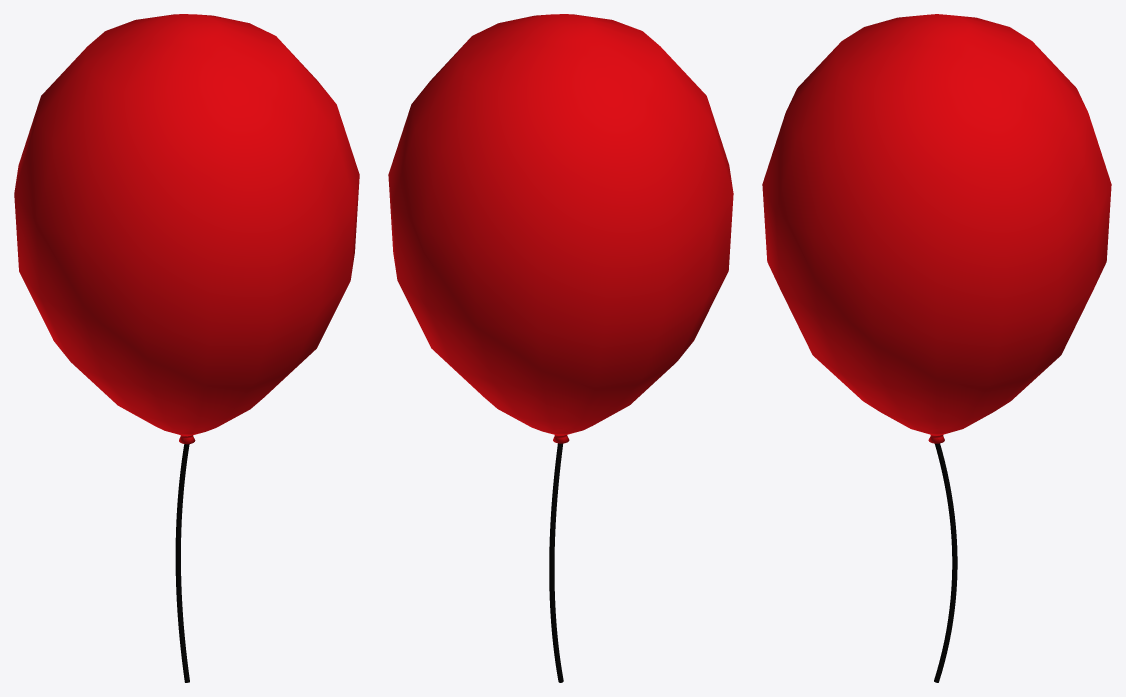
Rendered from Balloon.fbx.
3 renders of one model, left to right at view 1: azimuth 30°, elevation 25°; view 2: azimuth 150°, elevation 25°; view 3: azimuth 270°, elevation 25°, orthographic.
Parts seen in each view (by area): view 1: Ballon, NurbsPath; view 2: Ballon, NurbsPath; view 3: Ballon, NurbsPath.
Part boxes in pixels (<box>): Ballon: <box>14,14,359,444</box>; NurbsPath: <box>175,444,189,682</box>; Ballon: <box>388,14,733,443</box>; NurbsPath: <box>549,443,563,682</box>; Ballon: <box>762,14,1111,443</box>; NurbsPath: <box>934,443,957,682</box>.
Bounding box in the file's own units: 261 × 545 × 262.
